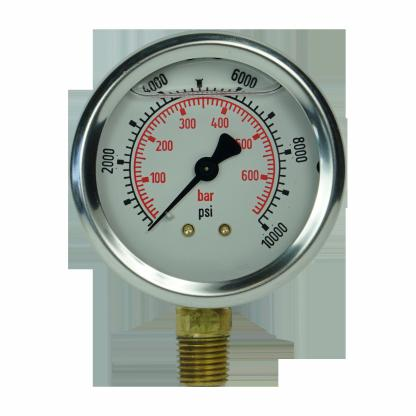needle: (146, 175, 202, 233)
